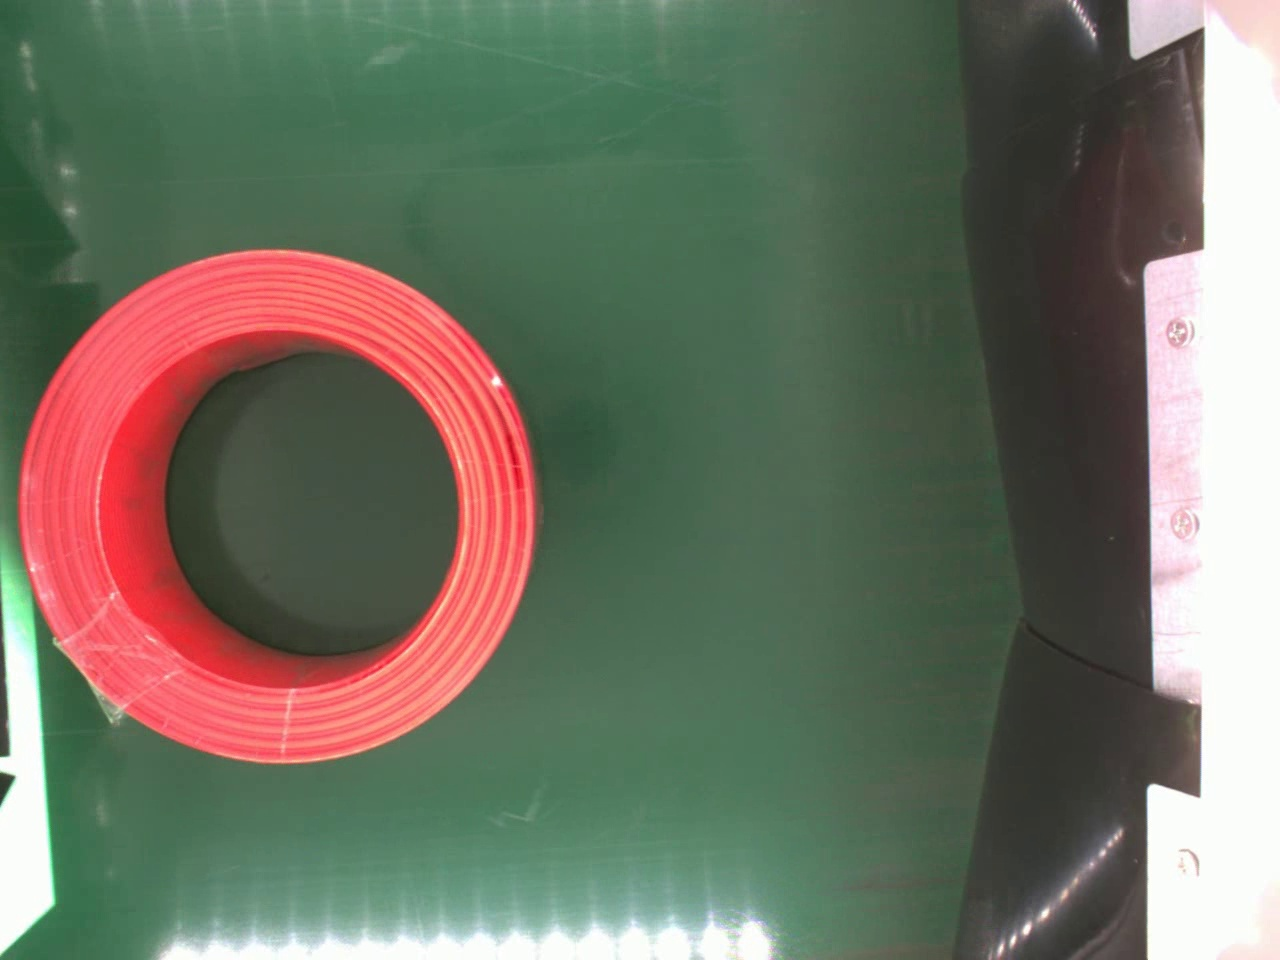red: (16, 248, 546, 765)
